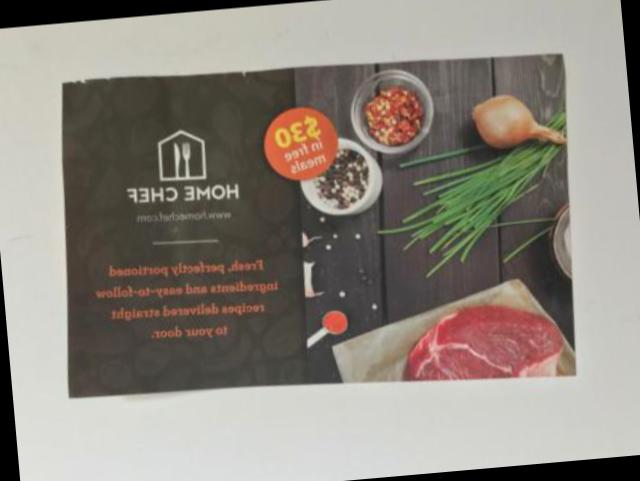cardboard paper: (61, 56, 572, 396), (331, 280, 550, 383)
